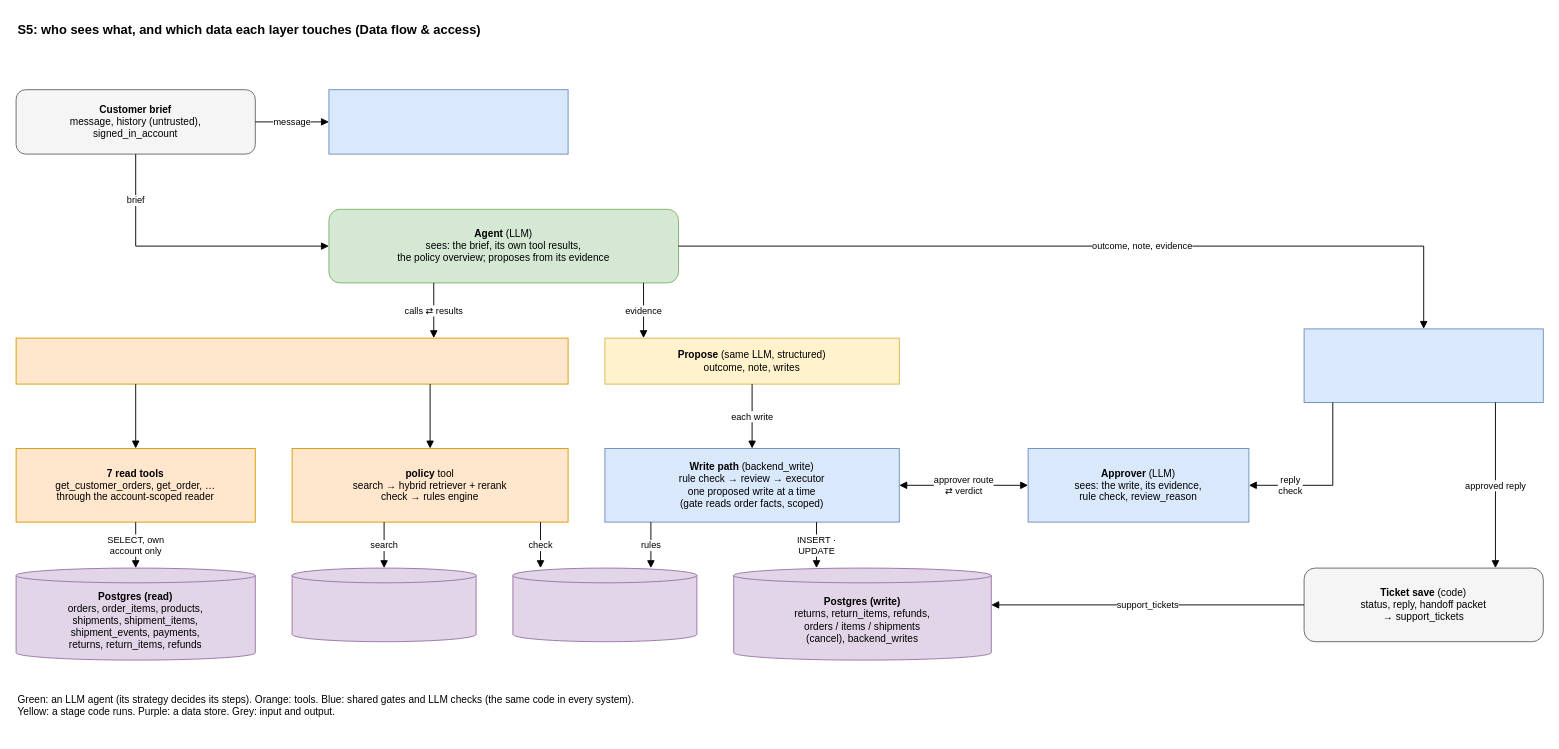
Image size: 1559x749. Some labels were removed from this diagram. Here are the shapes that lost their labels. From the top down, the box of each, then its label:
(328, 89, 568, 154): Guard (LLM) sees only the new message
(15, 337, 568, 384): Tool registry : reads + policy only records every call as evidence
(1303, 328, 1543, 402): Reply writer (LLM) sees: outcome, note, evidence, problems code found
(291, 567, 476, 642): Pinecone index chunks of the 2 policy PDFs
(512, 567, 697, 642): rules.json hard limits (one rules engine)
